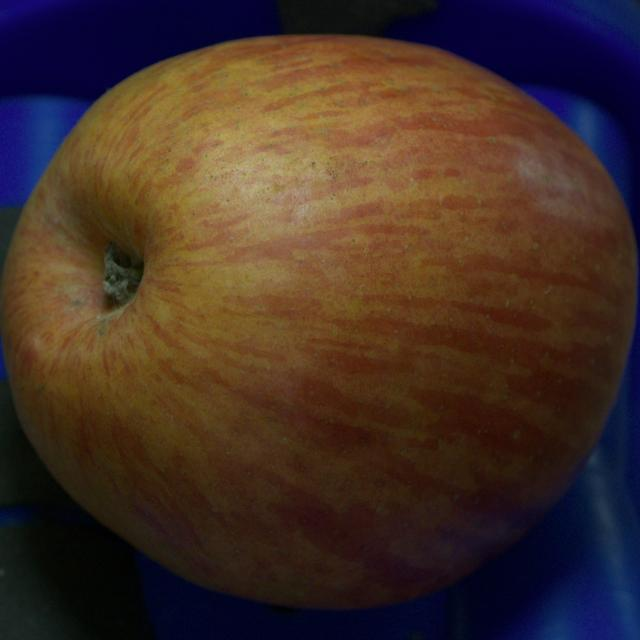apple: (0, 35, 638, 608)
